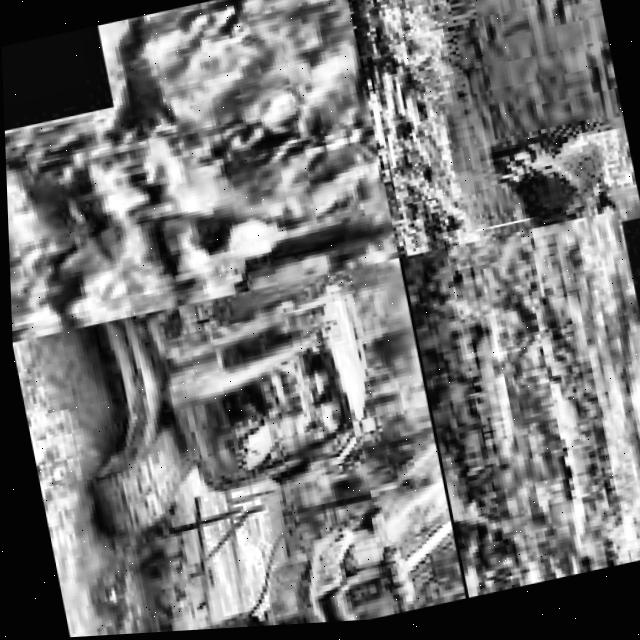excavator: (8, 261, 459, 640), (489, 0, 638, 232)
